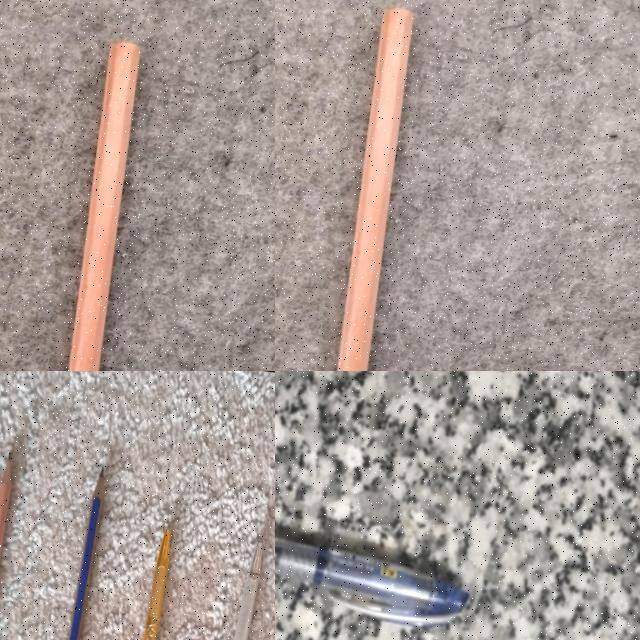pen: (275, 535, 469, 628)
pencil: (337, 8, 412, 370), (69, 42, 139, 370), (38, 476, 108, 640)
signature pen: (120, 519, 177, 640), (233, 542, 263, 640)
